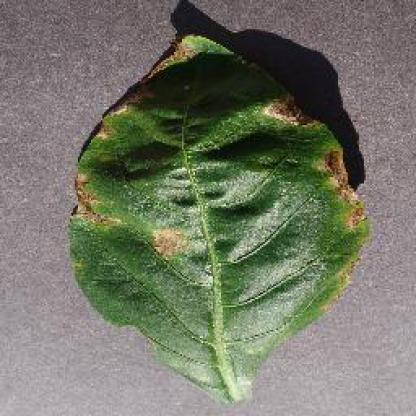bad leaf: (63, 6, 364, 411)
